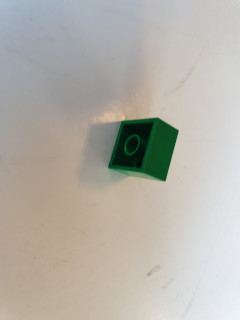2x2 green: (108, 117, 179, 182)
